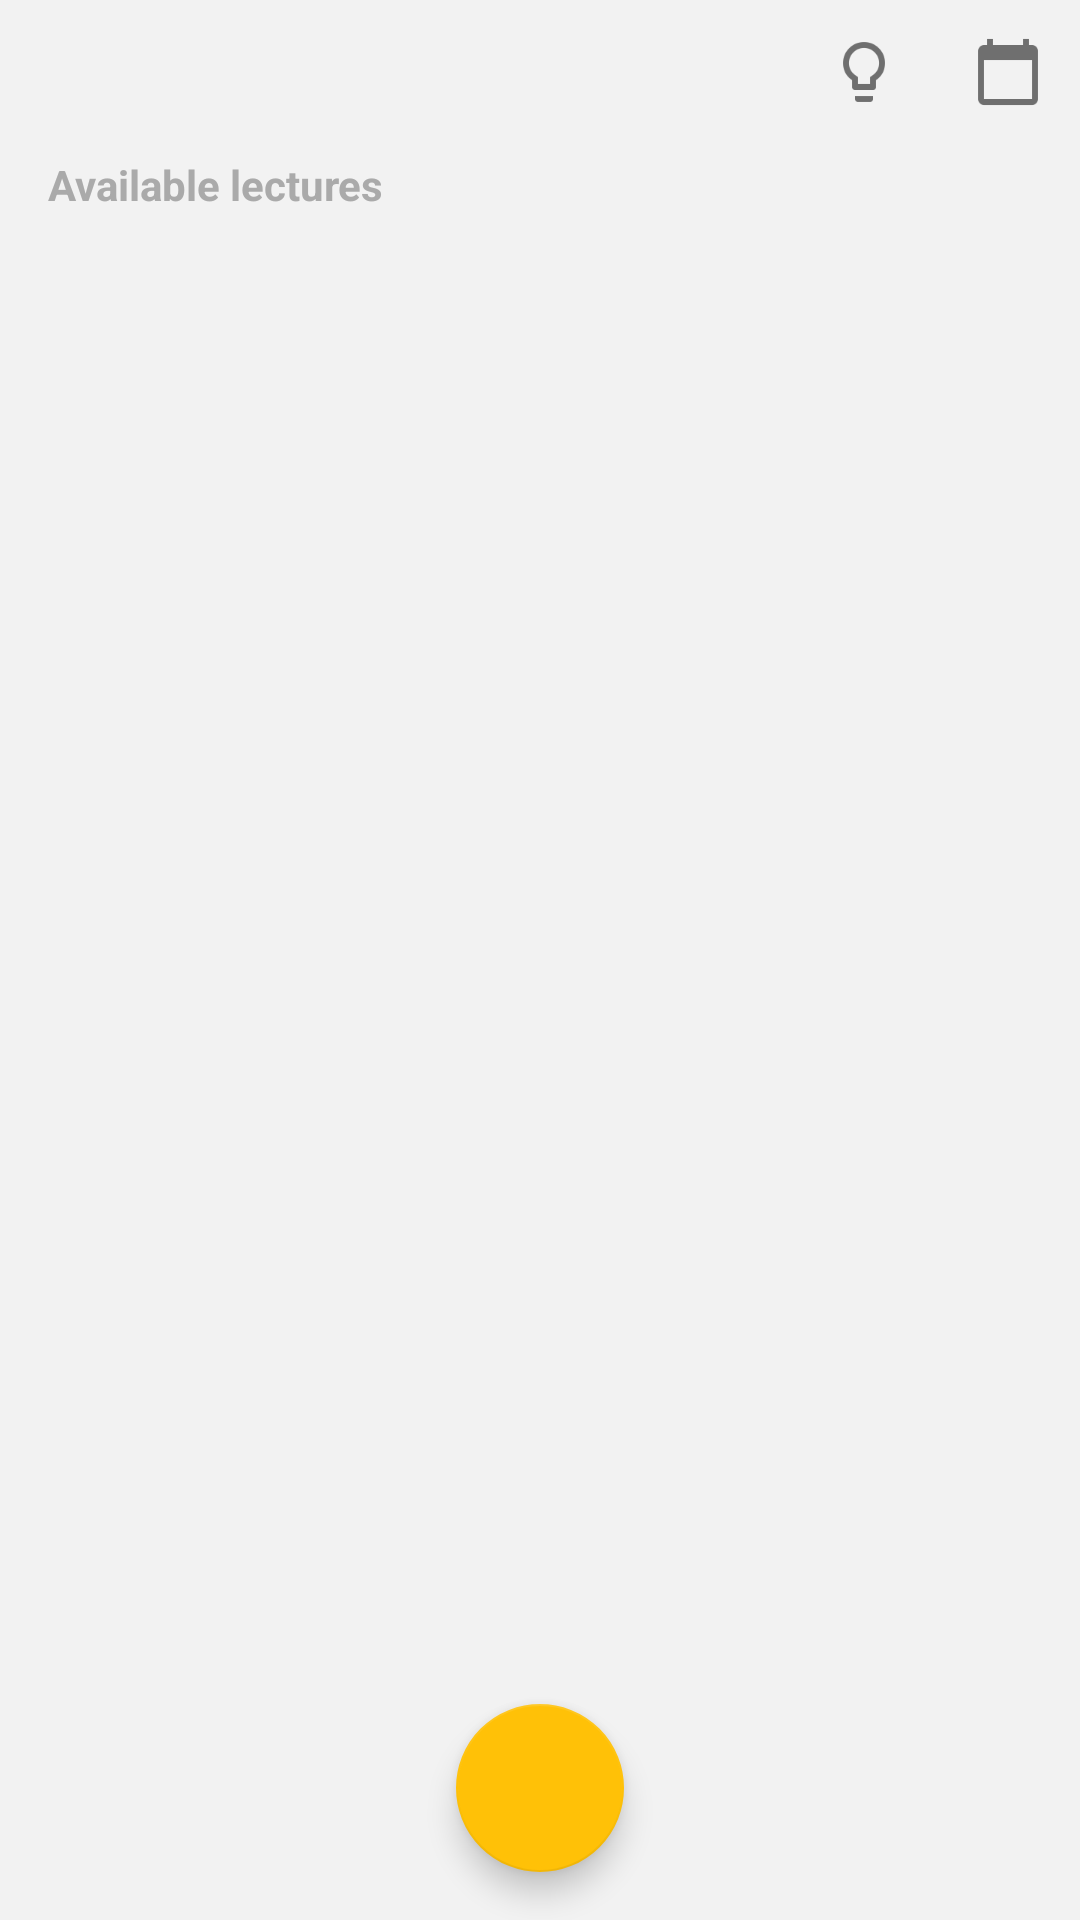

Where icons sit on this 1080px×1920px app screen, as rect(x1, y1, x2, y2):
attendance: rect(978, 39, 1038, 105)
